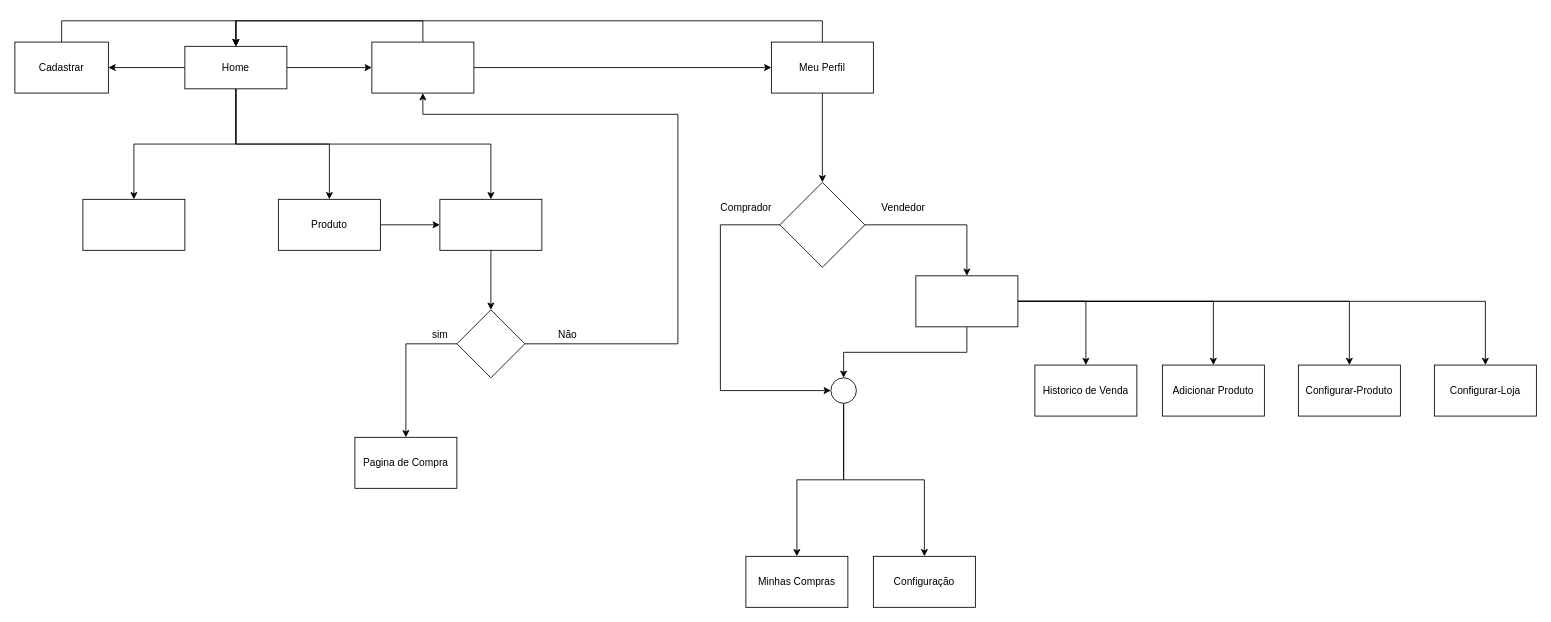
Image size: 1551x622. Some labels were removed from this diagram. Here are the shapes that lost their labels. From the top down, the centre of each, then its label:
At point (422, 67): "Login".
At point (133, 224): "Loja".
At point (490, 224): "Carrinho".
At point (822, 224): "Vendedor ou Comprador".
At point (966, 301): "Minha Loja".
At point (490, 343): "Logado".
